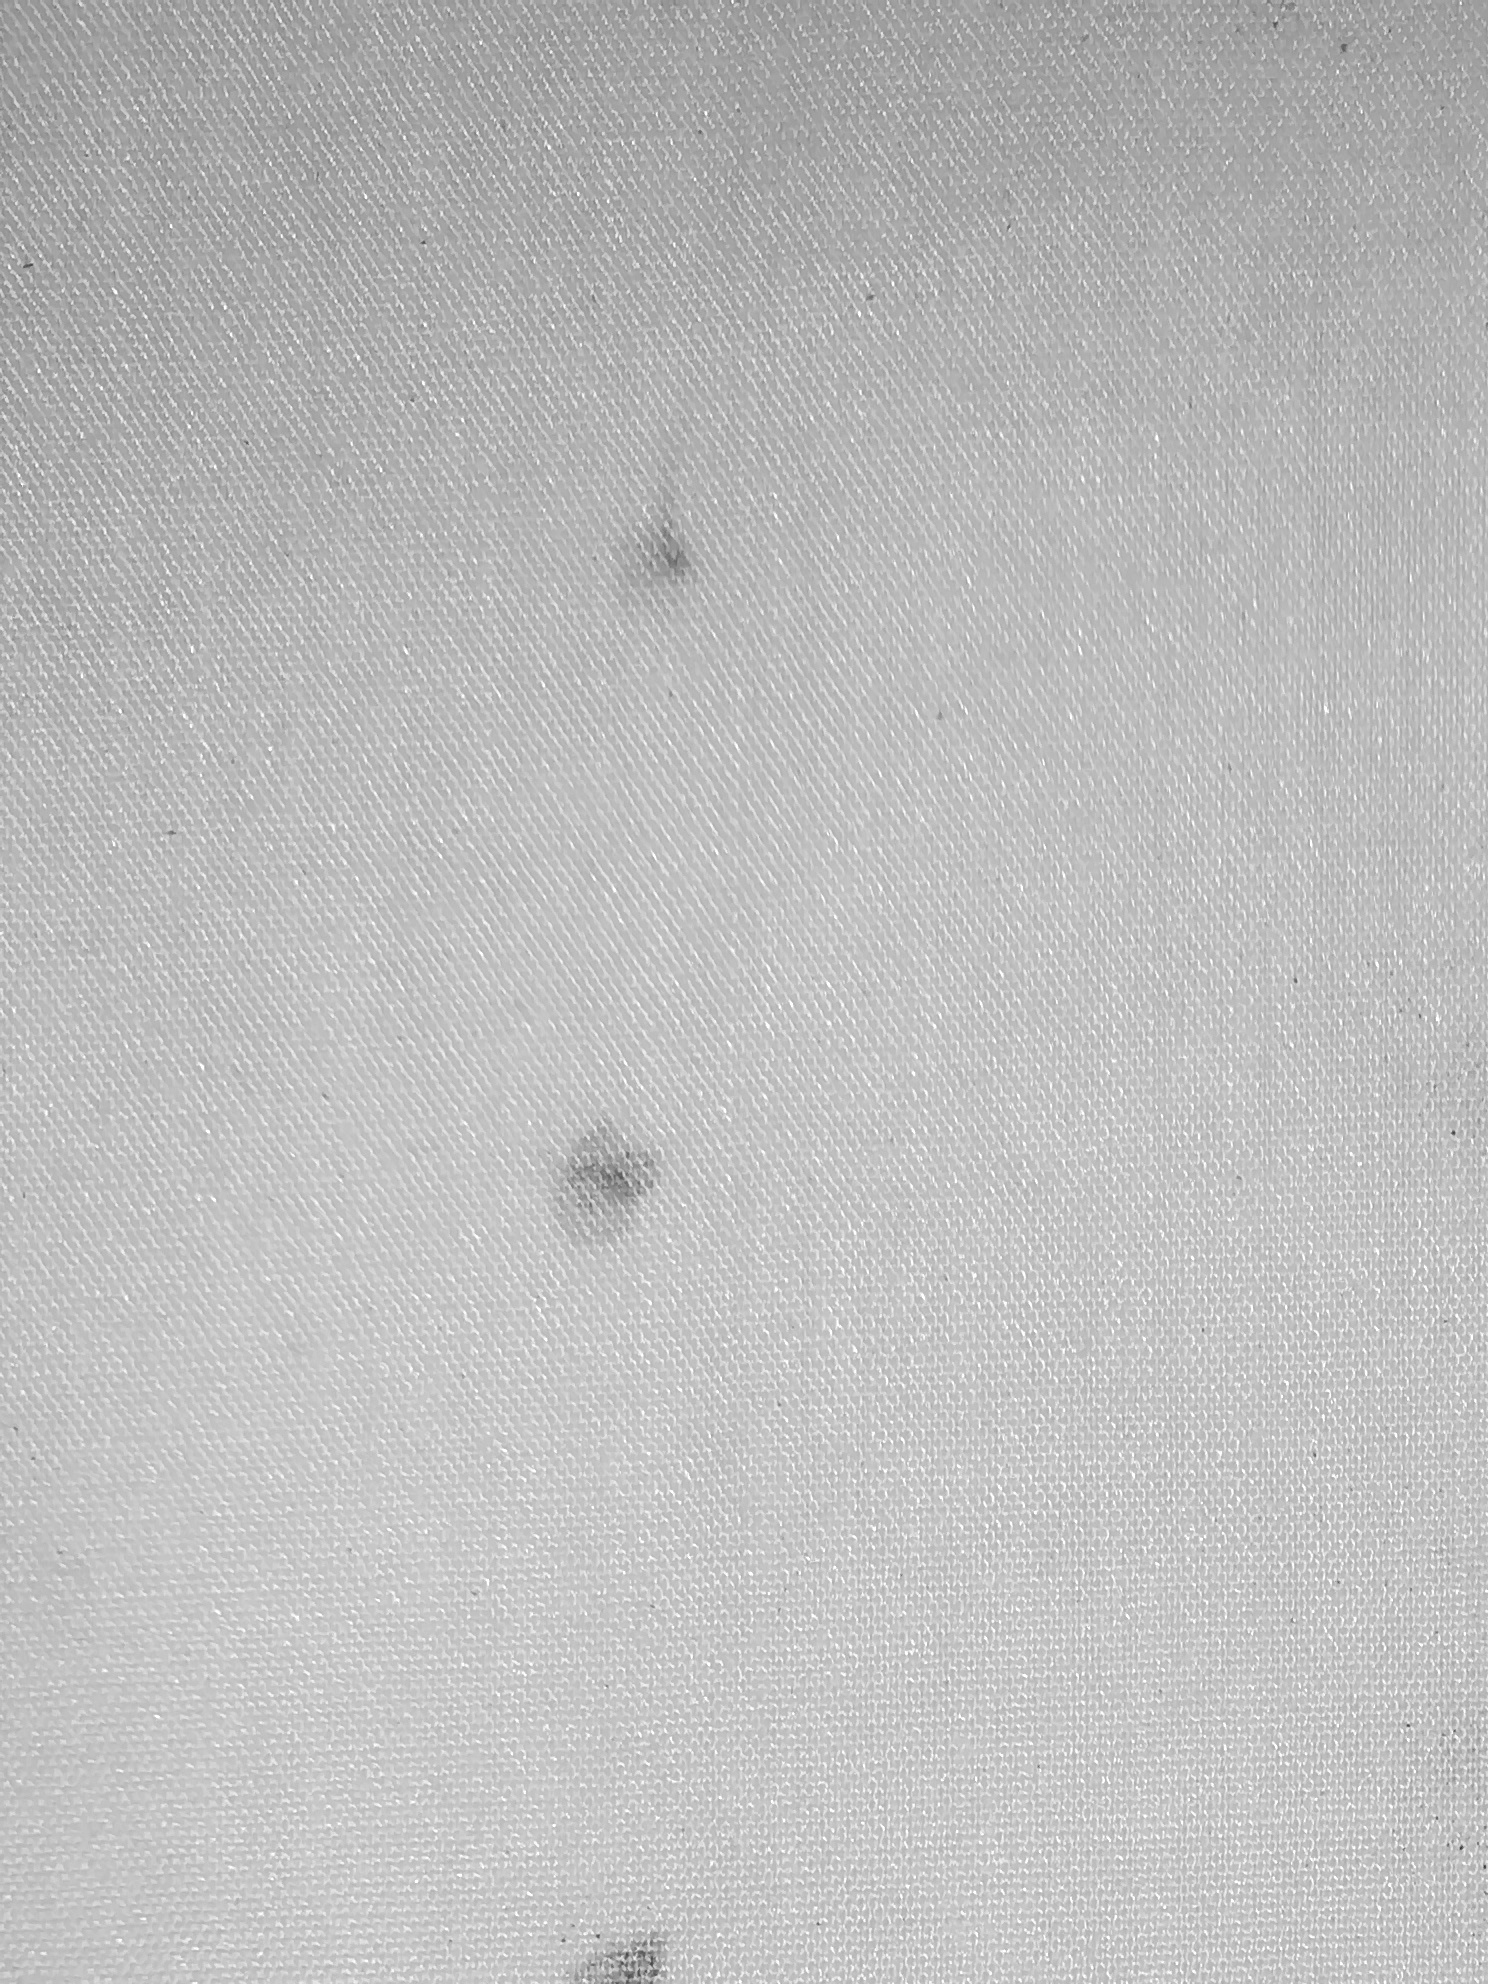Stain: (470, 380, 846, 670), (474, 1061, 817, 1283), (520, 1825, 814, 1984)
